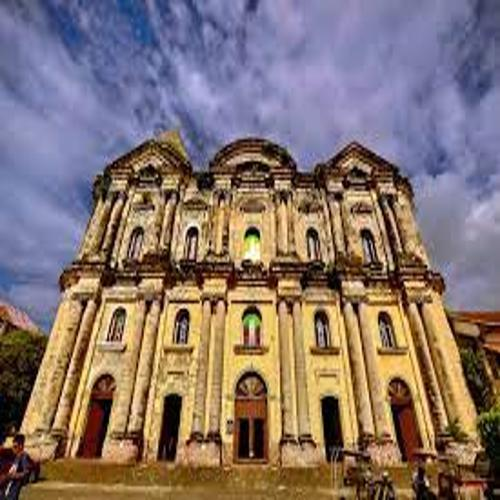Taal Basilica Church: (11, 126, 488, 470)
